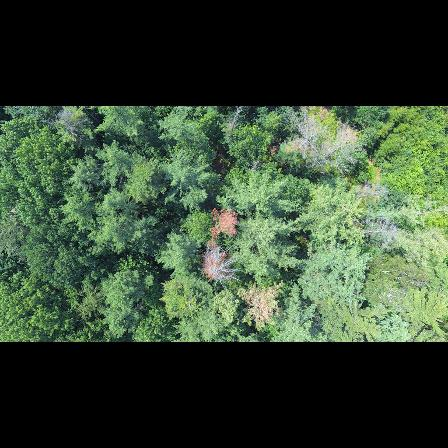Dead: (199, 241, 242, 287), (315, 132, 358, 173), (47, 108, 88, 143), (358, 215, 410, 242), (291, 120, 325, 154), (225, 106, 250, 134)
